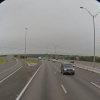Car: (52, 55, 80, 87)
